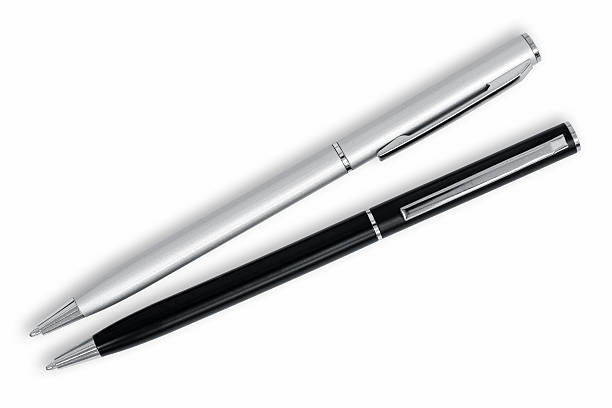pen: (27, 27, 591, 377)
